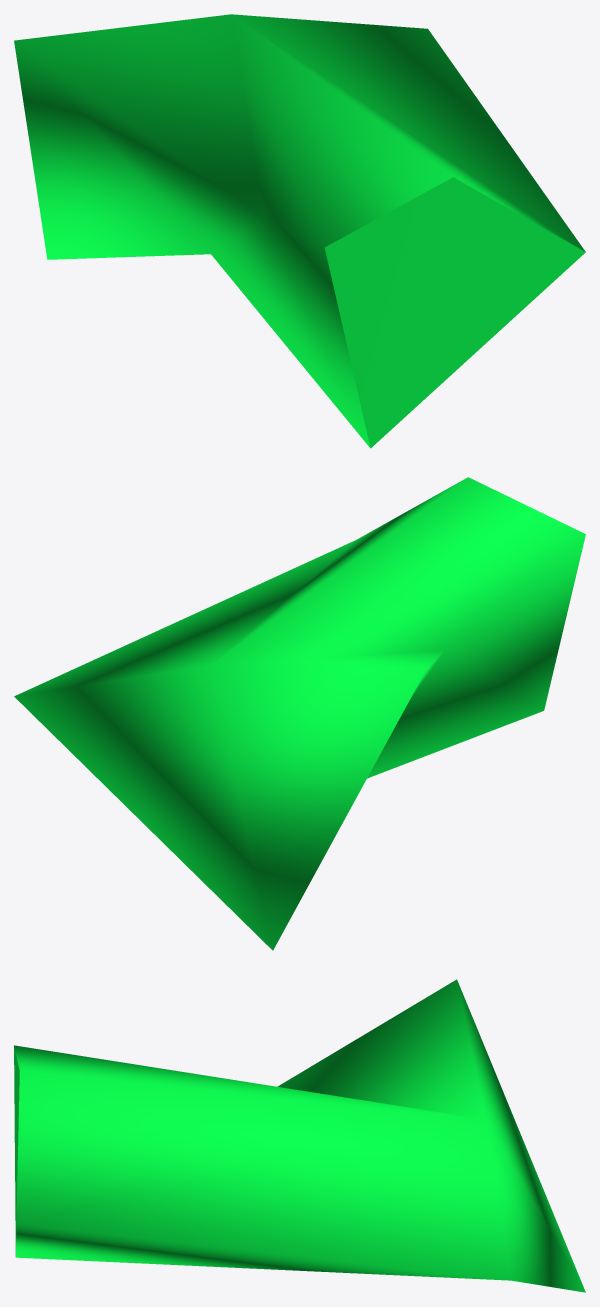
Rendered from Plant01_c_col.FBX.
3 renders of one model, top to bottom at view 1: azimuth 30°, elevation 25°; view 2: azimuth 150°, elevation 25°; view 3: azimuth 270°, elevation 25°, orthographic. The views are drawn at different scales.
Visible parts, largest first — view 1: Plant01_c_col; view 2: Plant01_c_col; view 3: Plant01_c_col.
Boxes of the visible parts, bbox=[...] form: Plant01_c_col: bbox=[14, 14, 585, 448]; Plant01_c_col: bbox=[14, 477, 585, 950]; Plant01_c_col: bbox=[14, 979, 585, 1292].
Bounding box in the file's own units: 268 × 171 × 332.
